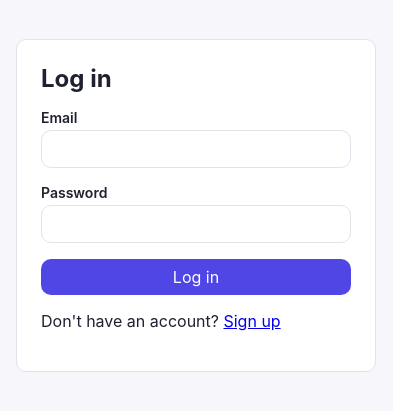
LoginPage › shows an error and stays on the page when login fails
Type "ada@example.com" into the field labelled "Email" at (196, 148), box [41, 130, 351, 168]
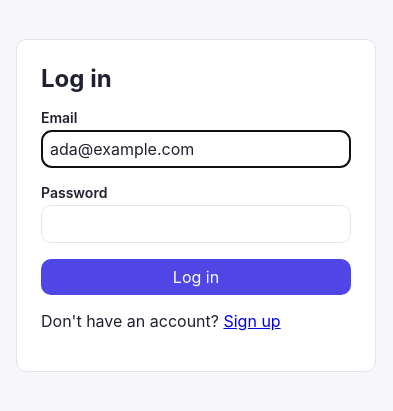
Type "wrong-password" into the password field labelled "Password" at (196, 224), box [41, 204, 351, 242]
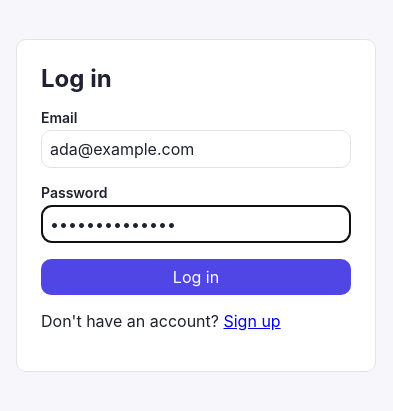
Click the button "Log in" at (196, 276), box [41, 258, 351, 294]
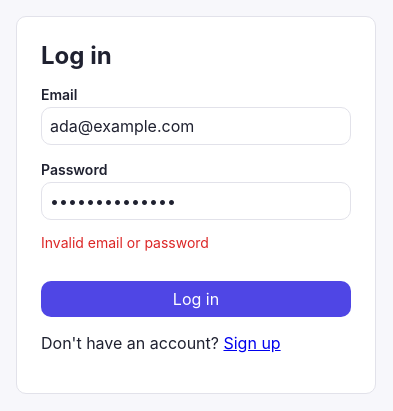
Expected: the heading "Log in" is shown, [41, 41, 112, 70]
Now the message reads "Invalid email or password", box [41, 234, 209, 251]
